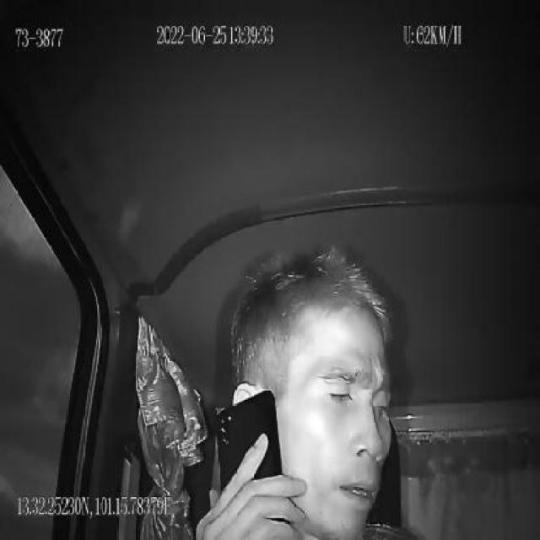phone: (214, 387, 284, 495)
